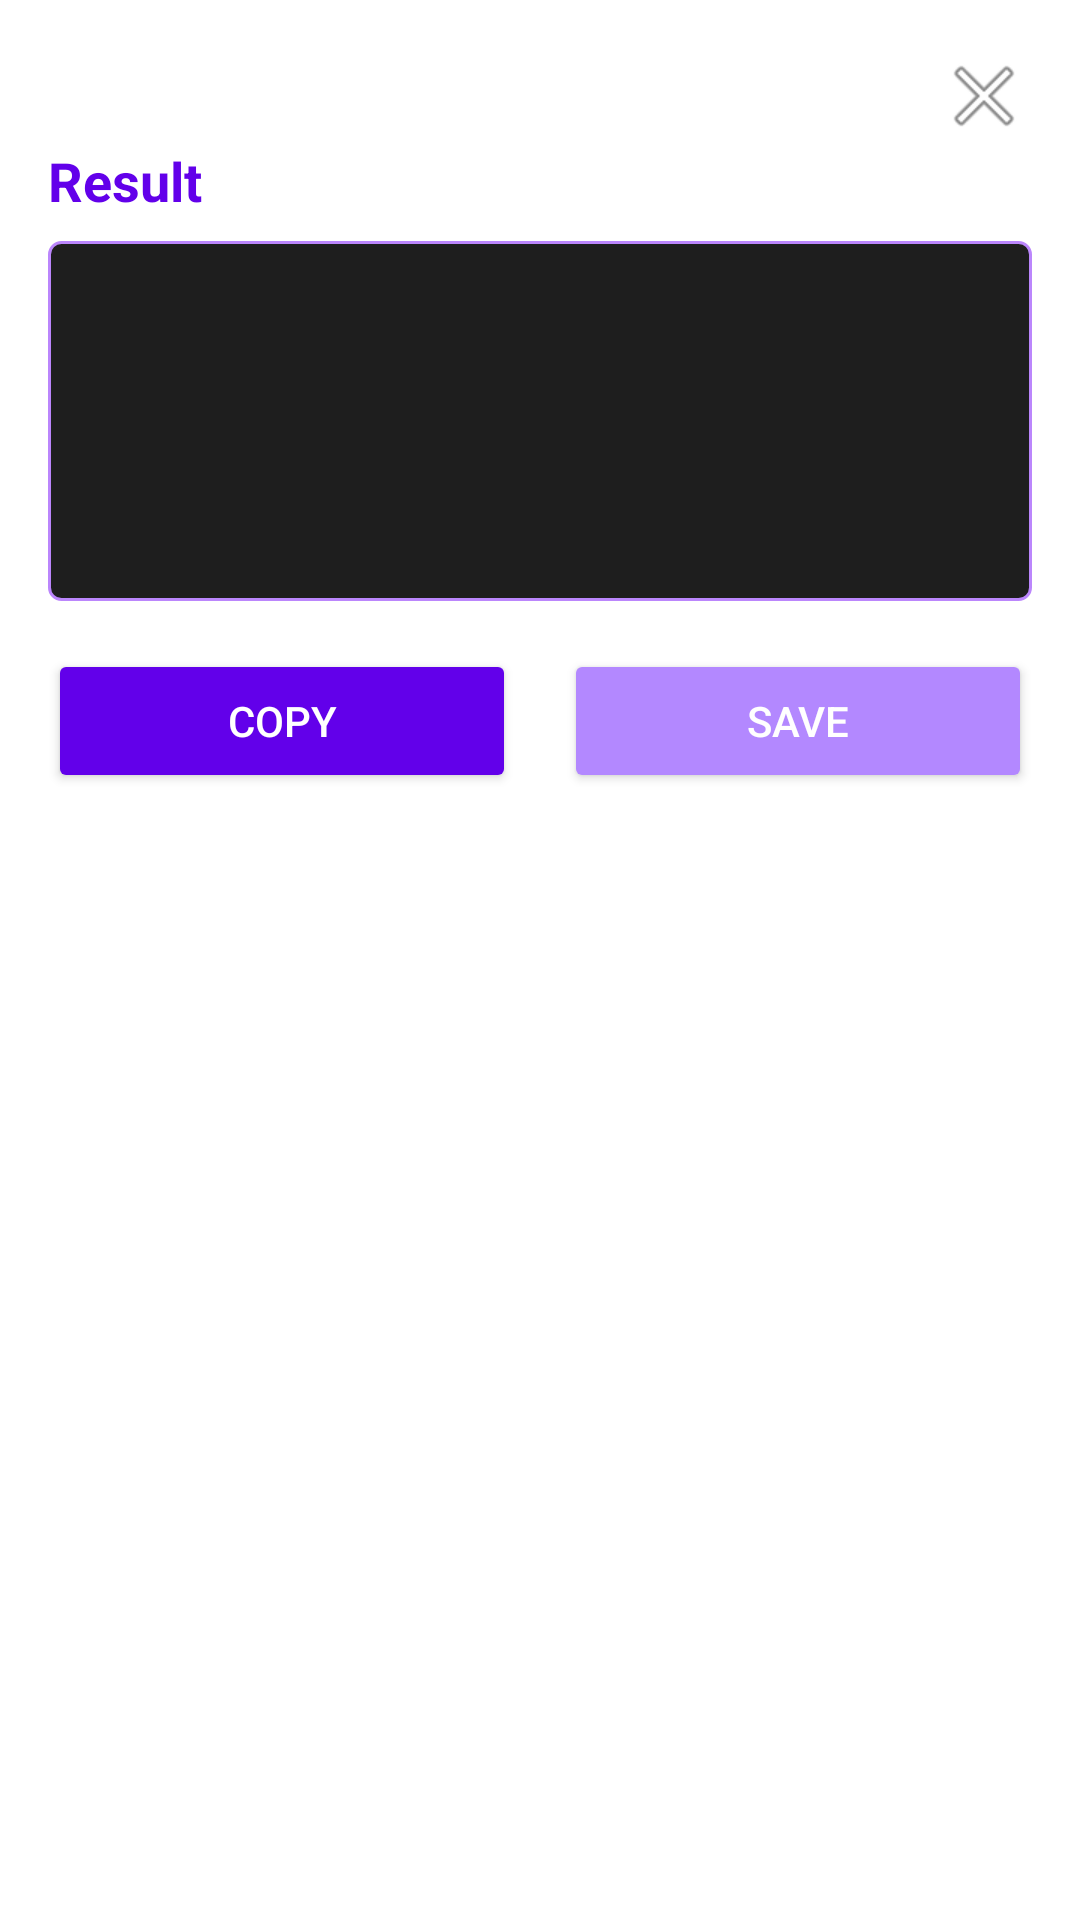

Icon click points for this 1080 x 1920 phone screenshot, format (x=x, y=y):
Close: (x=984, y=96)
